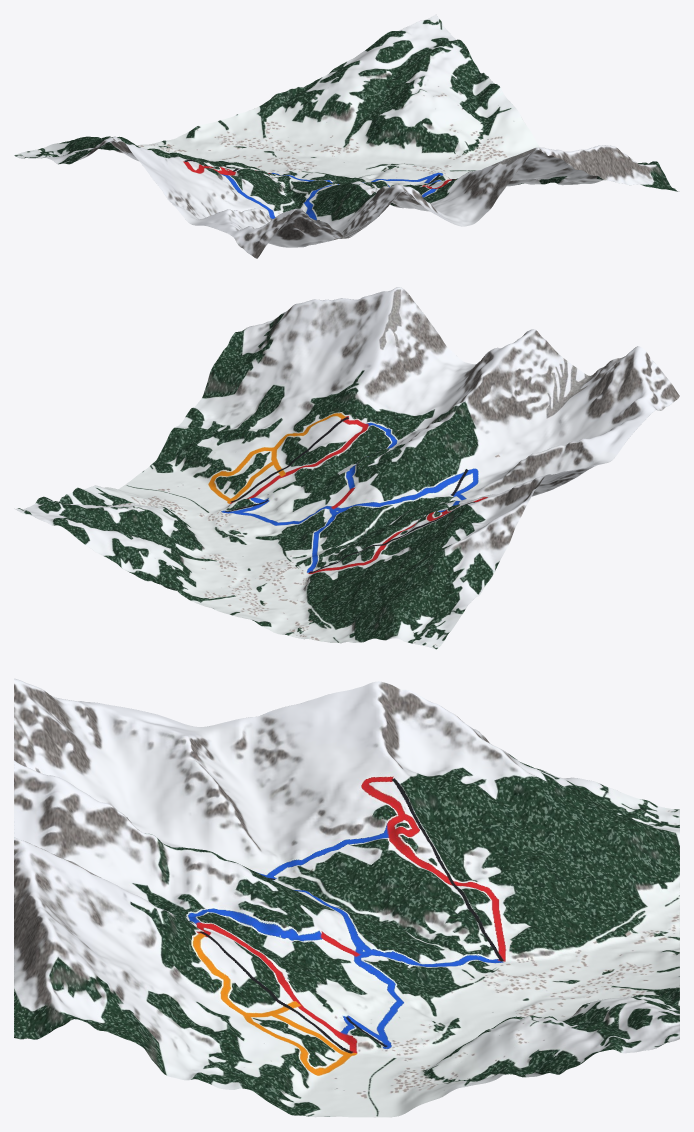
3 renders of one model, top to bottom at view 1: azimuth 30°, elevation 25°; view 2: azimuth 150°, elevation 25°; view 3: azimuth 270°, elevation 25°, orthographic. The views are drawn at different scales.
Visible parts, largest first — view 1: F3_Schattwald_Zoeblen.glb; view 2: F3_Schattwald_Zoeblen.glb; view 3: F3_Schattwald_Zoeblen.glb.
Boxes of the visible parts, x1,y1,x2,y2 form: F3_Schattwald_Zoeblen.glb: (14, 14, 678, 258); F3_Schattwald_Zoeblen.glb: (14, 287, 679, 649); F3_Schattwald_Zoeblen.glb: (14, 678, 679, 1117).
Size of the model in its own units: 3670 by 1153 by 3670.
Materials: 1 (1 with a texture image).
